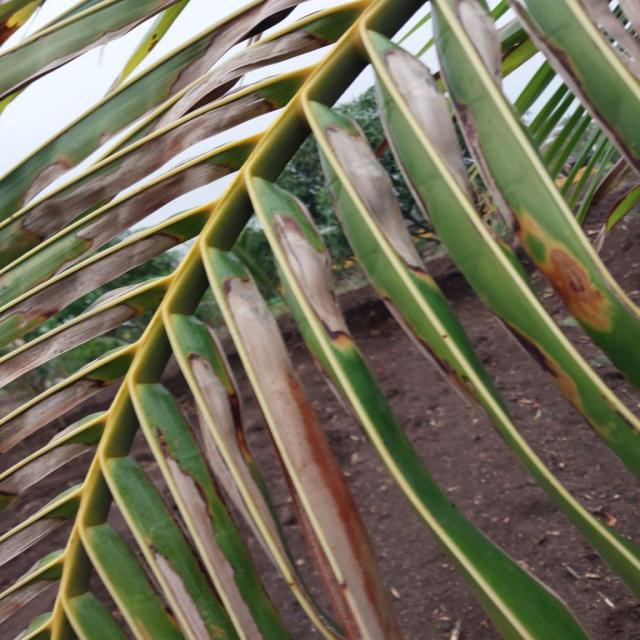gray leaf spot: (0, 9, 556, 623)
